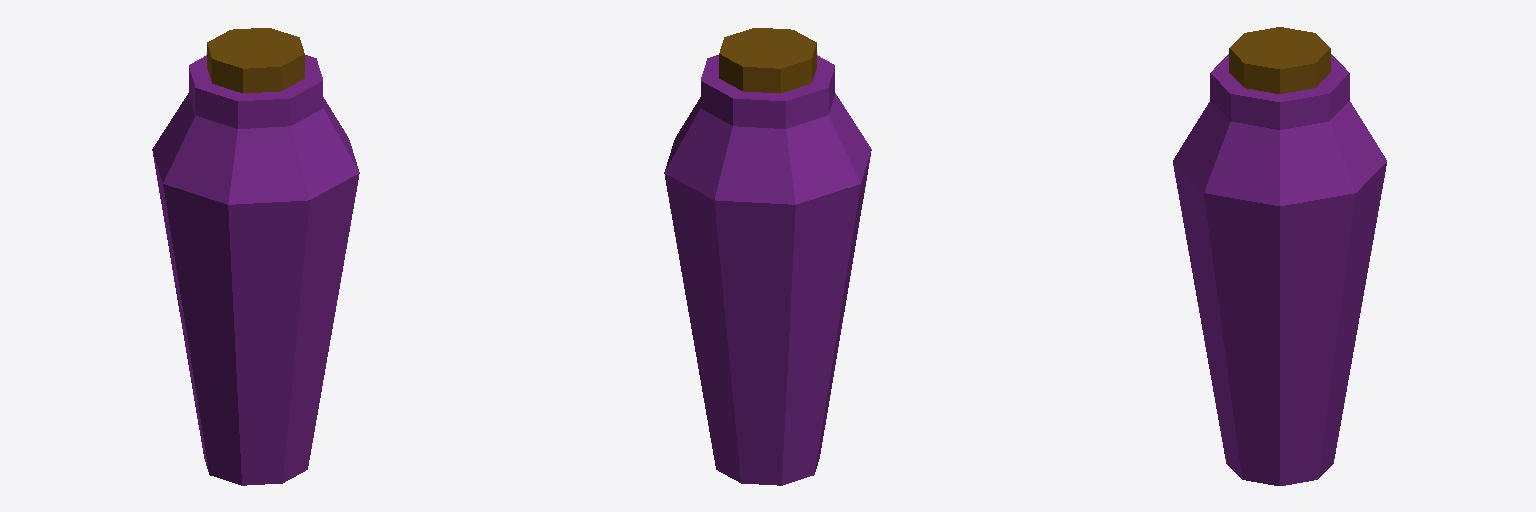
File: Buff_potion.obj
3 views of the same model, side by side, from view 1: azimuth 30°, elevation 25°; view 2: azimuth 150°, elevation 25°; view 3: azimuth 270°, elevation 25° (orthographic).
Visible parts, largest first — view 1: Buff_potion_Circle.004; view 2: Buff_potion_Circle.004; view 3: Buff_potion_Circle.004.
Part boxes in pixels (bbox=[...]): Buff_potion_Circle.004: bbox=[152, 28, 359, 485]; Buff_potion_Circle.004: bbox=[664, 28, 871, 485]; Buff_potion_Circle.004: bbox=[1173, 27, 1386, 485].
Size of the model in its own units: 3.08 by 6.58 by 3.08.